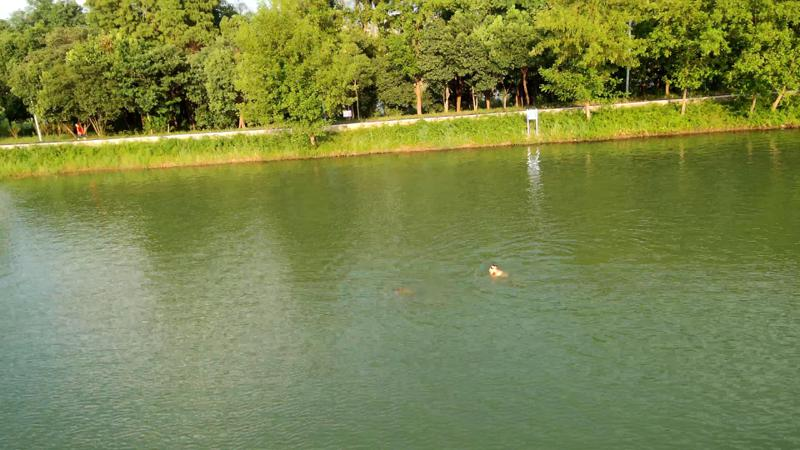passerby: (71, 121, 90, 142)
swimmers: (485, 258, 510, 280)
